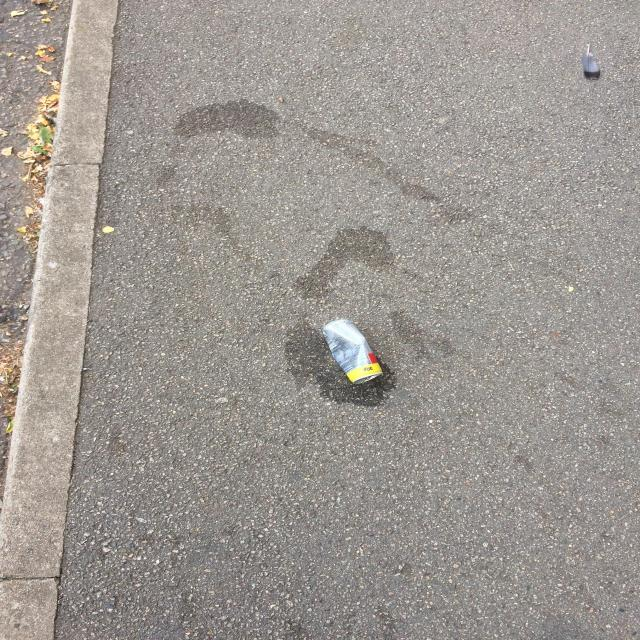less trash: (323, 319, 383, 384)
